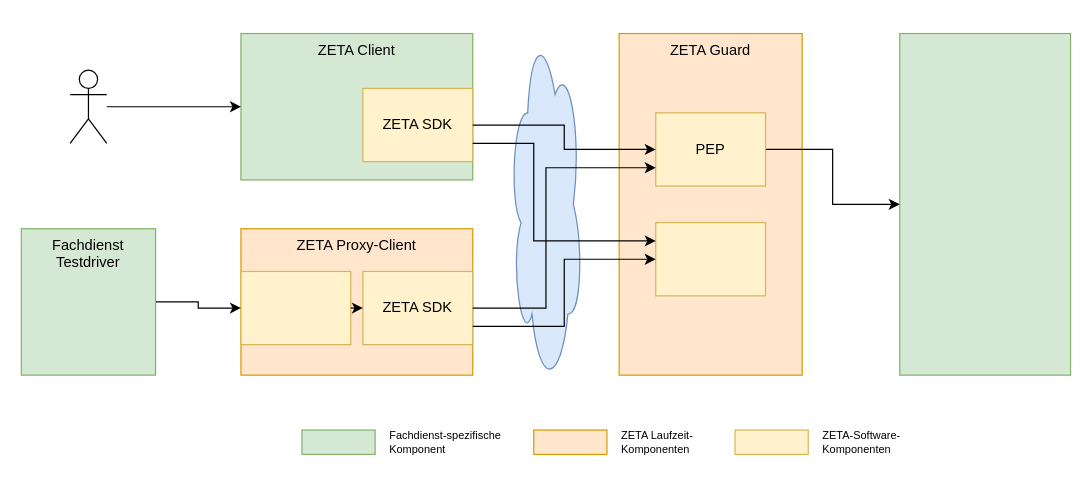
This 1092x482 diagram has some shape labels left out. Here are the shapes that lost their labels. From the top down, the centre of each, then its label:
At (88,106): "Actor".
At (985,203): "Fachdienst".
At (710,258): "PDP".
At (295,307): "HTTP Server (Proxy)".
